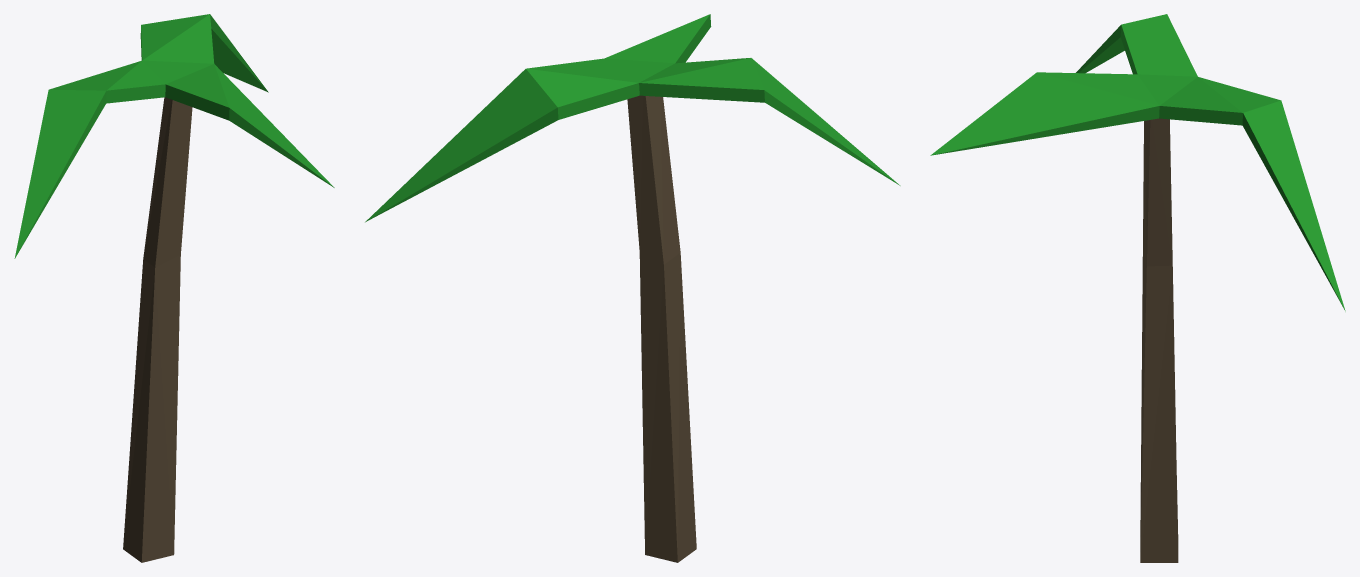
File: palm.glb
3 renders of one model, left to right at view 1: azimuth 30°, elevation 25°; view 2: azimuth 150°, elevation 25°; view 3: azimuth 270°, elevation 25°, orthographic. The views are drawn at different scales.
Parts seen in each view (by area): view 1: trunk, leaves; view 2: leaves, trunk; view 3: leaves, trunk.
Boxes of the visible parts, x1,y1,x2,y2 form: trunk: [123, 97, 192, 562]; leaves: [14, 14, 334, 258]; leaves: [365, 14, 900, 222]; trunk: [627, 95, 696, 562]; leaves: [930, 14, 1345, 311]; trunk: [1140, 118, 1178, 562].
Size of the model in its own units: 4.97 by 5.93 by 4.47.
